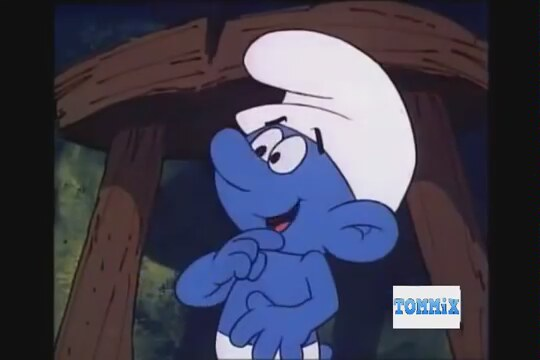smurf: (174, 28, 416, 359)
